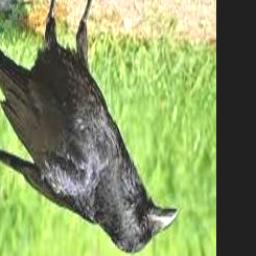Crow: (0, 0, 182, 255)
